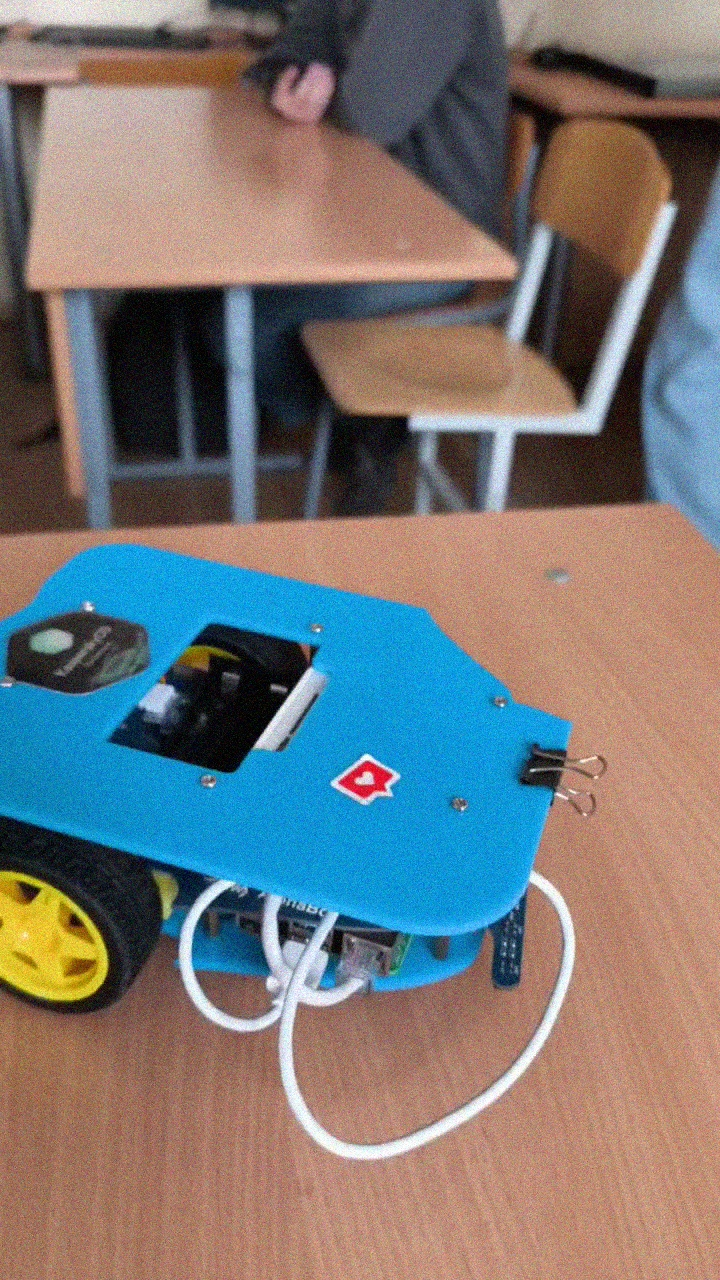robot: (1, 541, 606, 1164)
